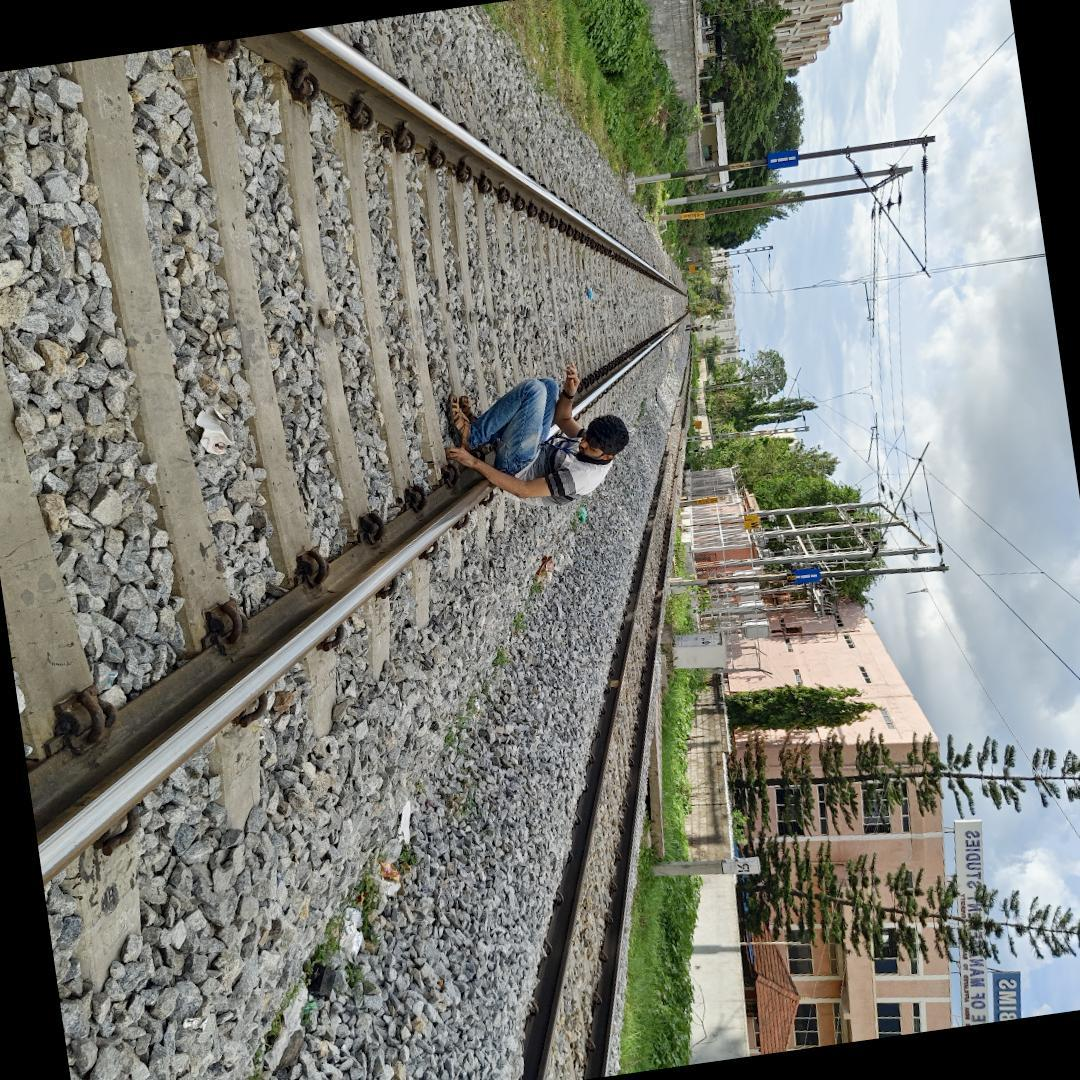sitting: (432, 348, 648, 524)
